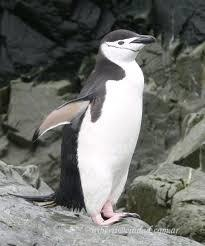chinstrap: (33, 21, 168, 234)
